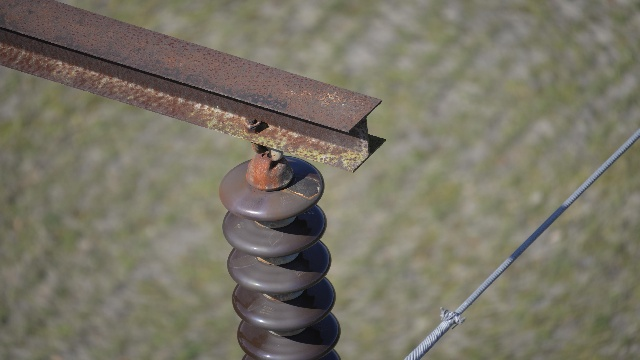insulator_unspecified: (219, 155, 342, 359)
pollution_flashover_local: (282, 173, 323, 200), (227, 251, 257, 269), (245, 295, 270, 312), (267, 226, 283, 252)
